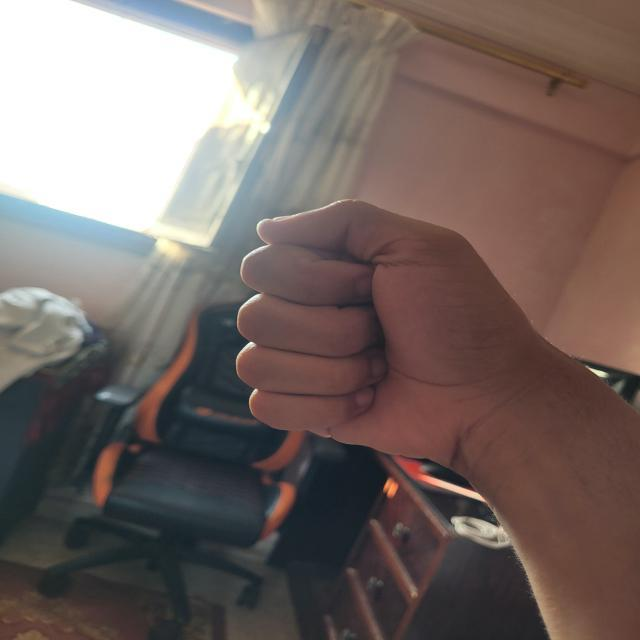Closed Hand: (236, 198, 529, 468)
